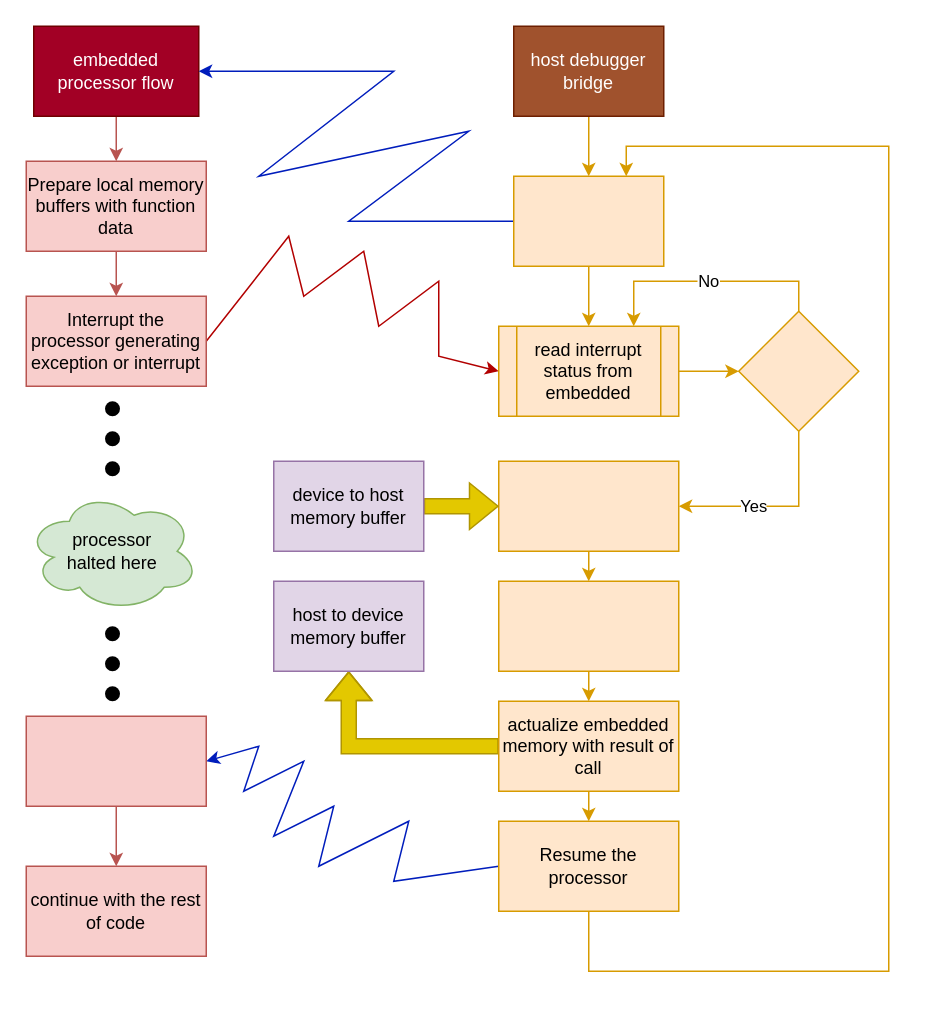
This 927x1010 diagram has some shape labels left out. The centre of each missing label's shape, as x and y in pixels:
"analyze return code in the memory" belongs at point (115, 760).
"interrupt?" belongs at point (798, 370).
"perform call action (print screen, read file, execute process)" belongs at point (588, 625).
"put embedded processor in run state" belongs at point (588, 220).
"read data from memory and process call" belongs at point (588, 505).
